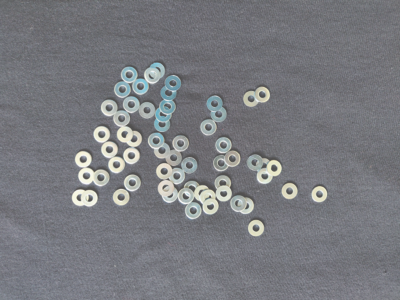circle: (248, 218, 266, 239), (255, 157, 274, 176), (111, 188, 130, 207), (123, 175, 143, 193), (206, 94, 224, 113), (210, 106, 229, 124), (238, 196, 256, 215), (82, 189, 100, 208), (93, 169, 111, 188), (78, 168, 97, 186), (75, 150, 94, 168), (243, 89, 260, 109), (200, 119, 218, 137), (256, 168, 274, 186), (185, 202, 203, 220), (148, 132, 166, 150), (94, 126, 112, 144), (114, 81, 132, 99), (247, 153, 264, 172), (230, 195, 247, 214), (171, 135, 190, 152), (73, 188, 90, 207), (107, 158, 126, 175), (113, 111, 132, 128), (254, 86, 271, 104), (162, 186, 179, 204), (165, 75, 183, 92), (101, 142, 118, 160), (126, 131, 144, 148), (117, 126, 134, 144), (101, 100, 119, 117), (123, 97, 140, 115), (138, 102, 156, 119), (160, 85, 179, 101), (150, 61, 166, 80), (215, 175, 232, 192), (200, 189, 217, 206), (181, 157, 198, 174), (154, 116, 171, 133), (124, 148, 141, 165), (311, 187, 329, 203), (282, 183, 298, 201), (225, 150, 241, 168), (202, 199, 220, 215), (195, 184, 211, 202), (185, 181, 201, 199), (169, 167, 185, 185), (153, 143, 171, 159), (158, 99, 176, 115), (215, 187, 234, 202), (267, 160, 283, 177), (213, 155, 229, 172), (216, 136, 232, 153), (178, 189, 195, 205), (156, 163, 172, 180), (166, 150, 183, 166), (156, 106, 173, 122), (132, 79, 149, 95), (145, 68, 161, 84), (122, 67, 138, 83), (158, 181, 175, 196)
